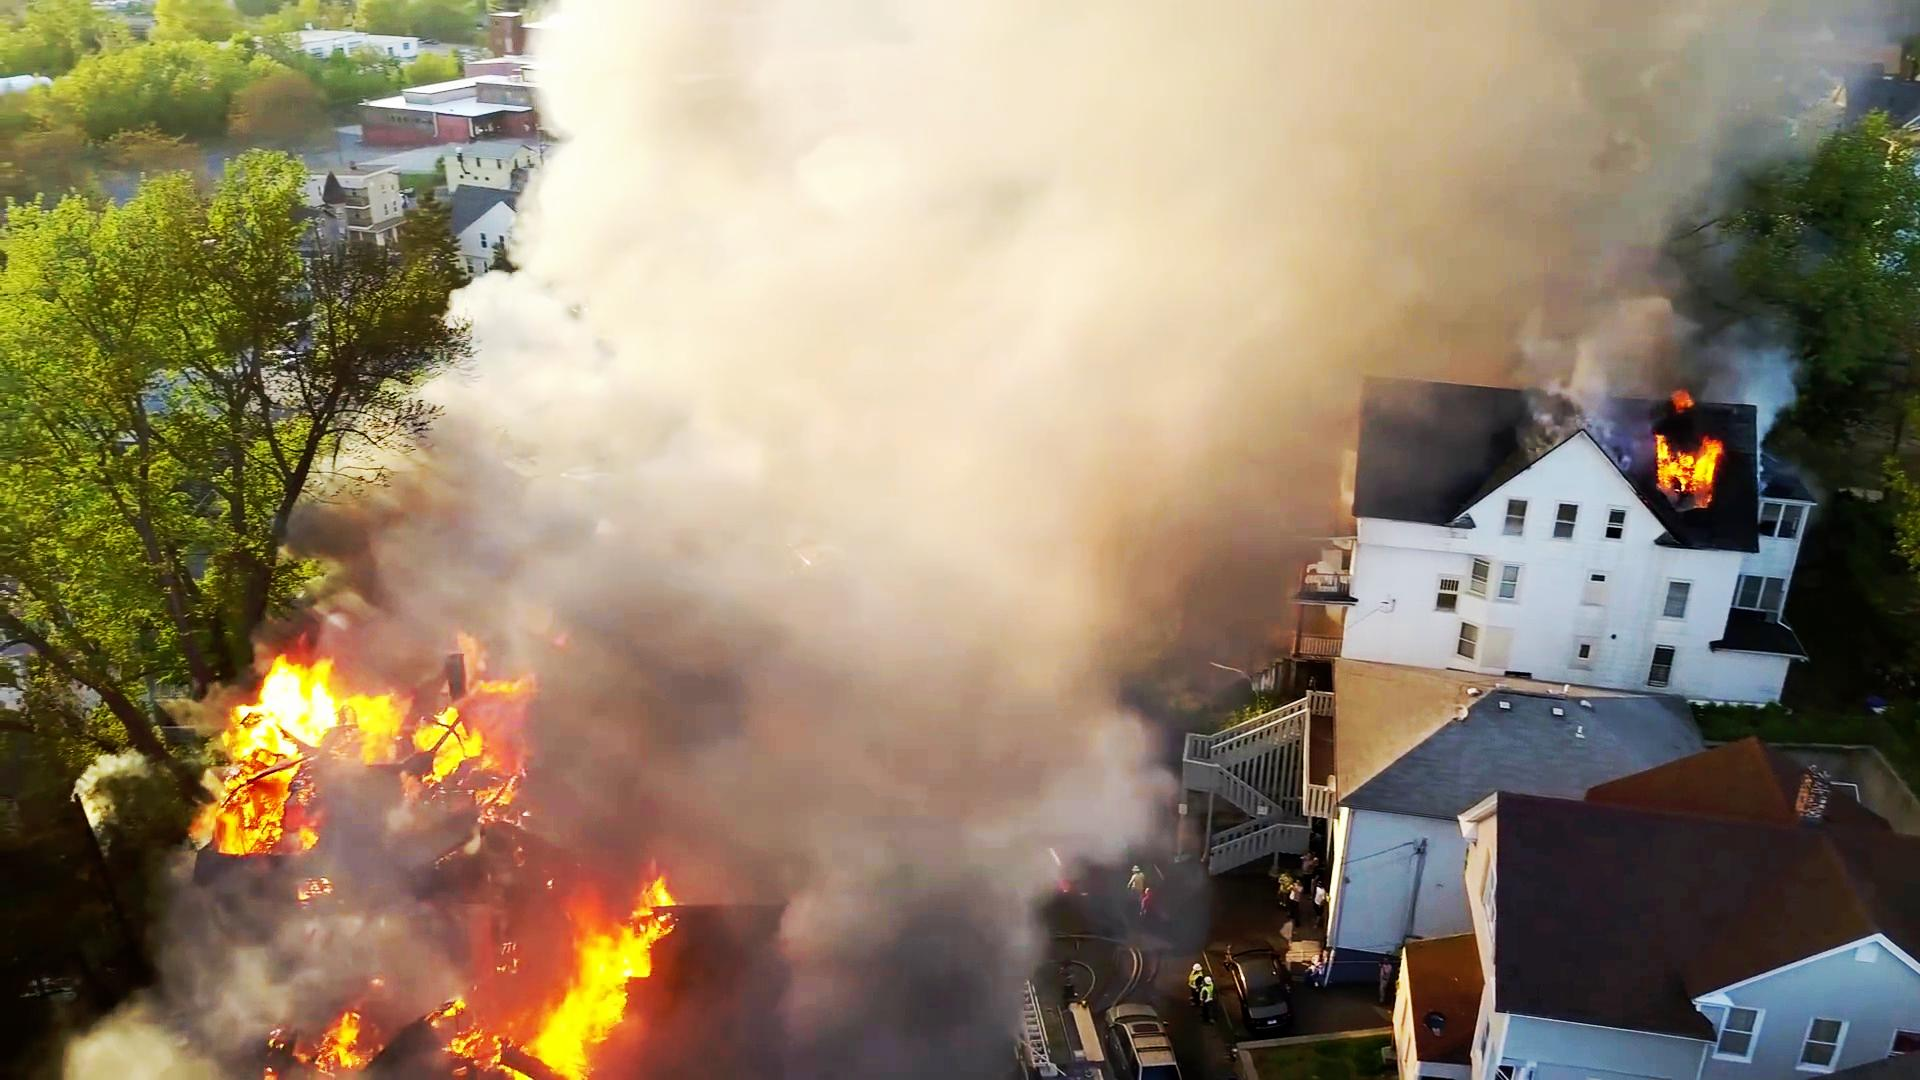fire: (214, 636, 518, 832), (433, 881, 691, 1080), (1654, 413, 1743, 502)
smoke: (951, 21, 1273, 661)
